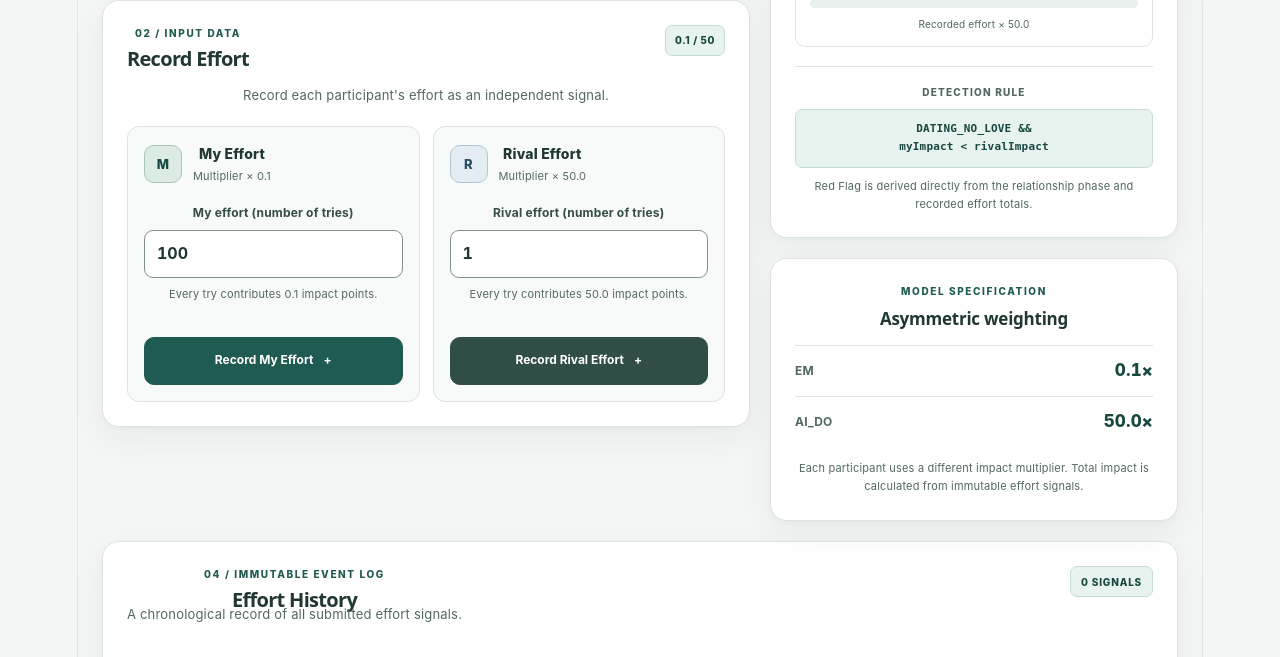
SituationshipAnalyzer › transitions to OFFICIAL_LOVE and cancels the ghosting timer
(page scrolled)
First participant starts the reply window.
Click the button "Record My Effort +" at (273, 361), box [144,337,402,385]
(page scrolled)
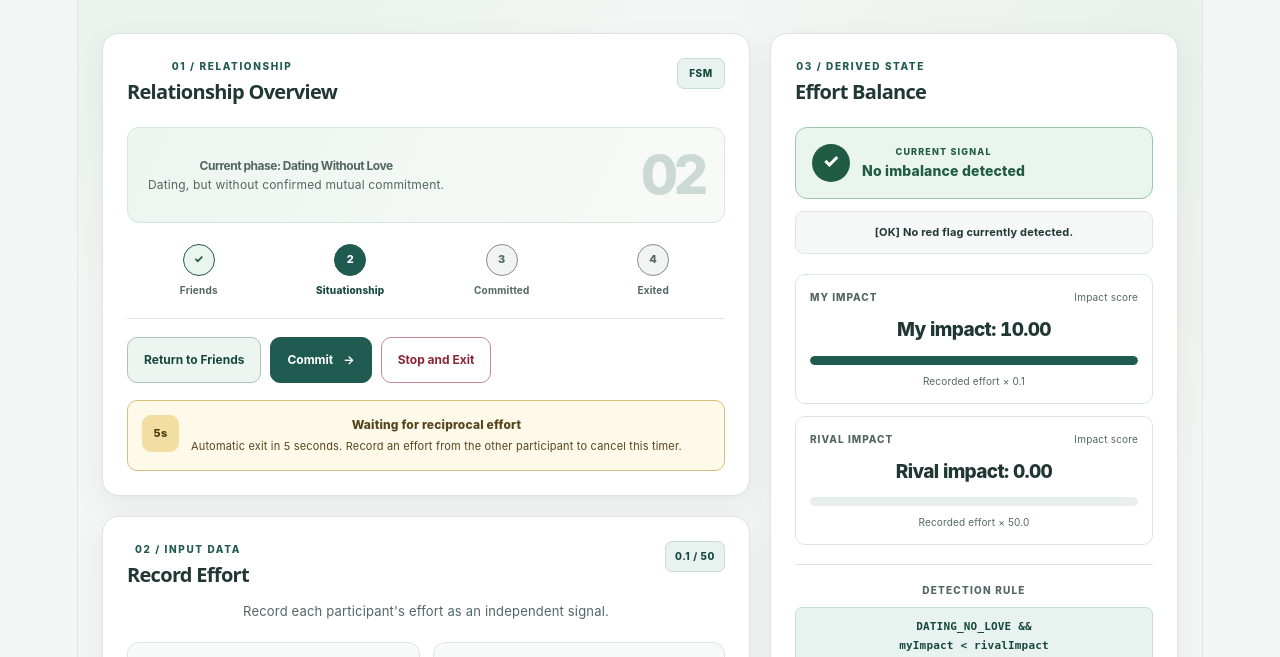
Click the button "Commit →" at (321, 360), box [270,337,372,383]
Wait 5000 ms
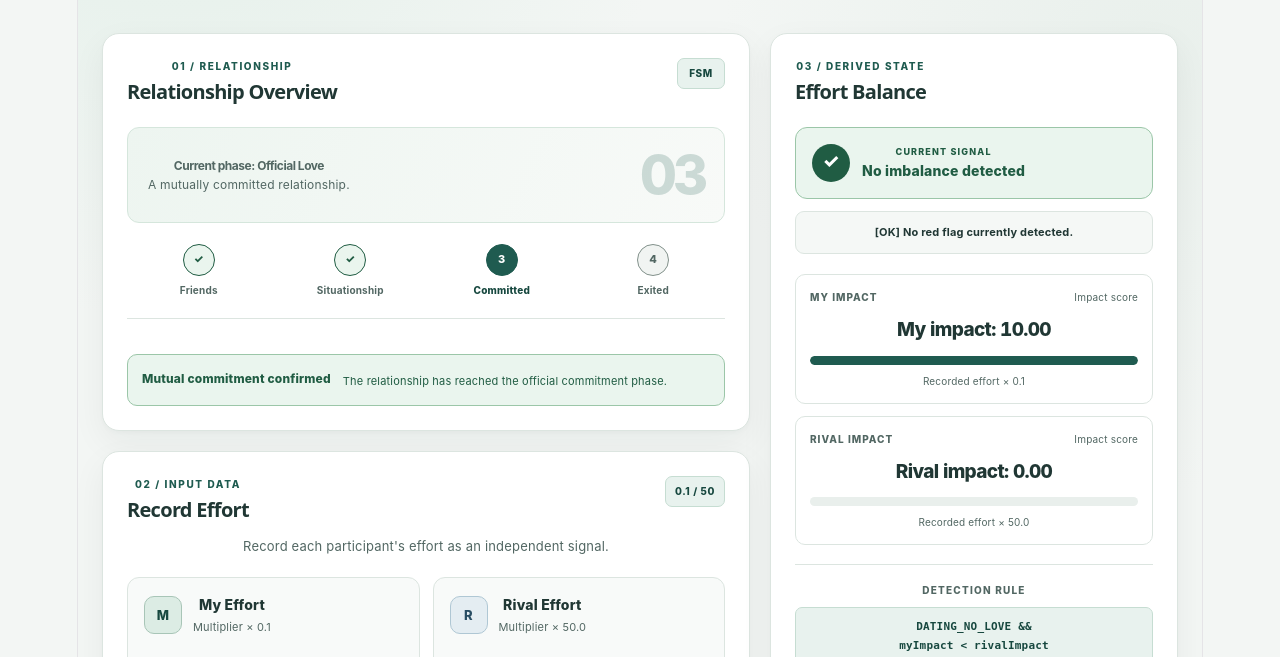
Expected: the text "Current phase: Official Love" is shown, [174,158,324,172]
